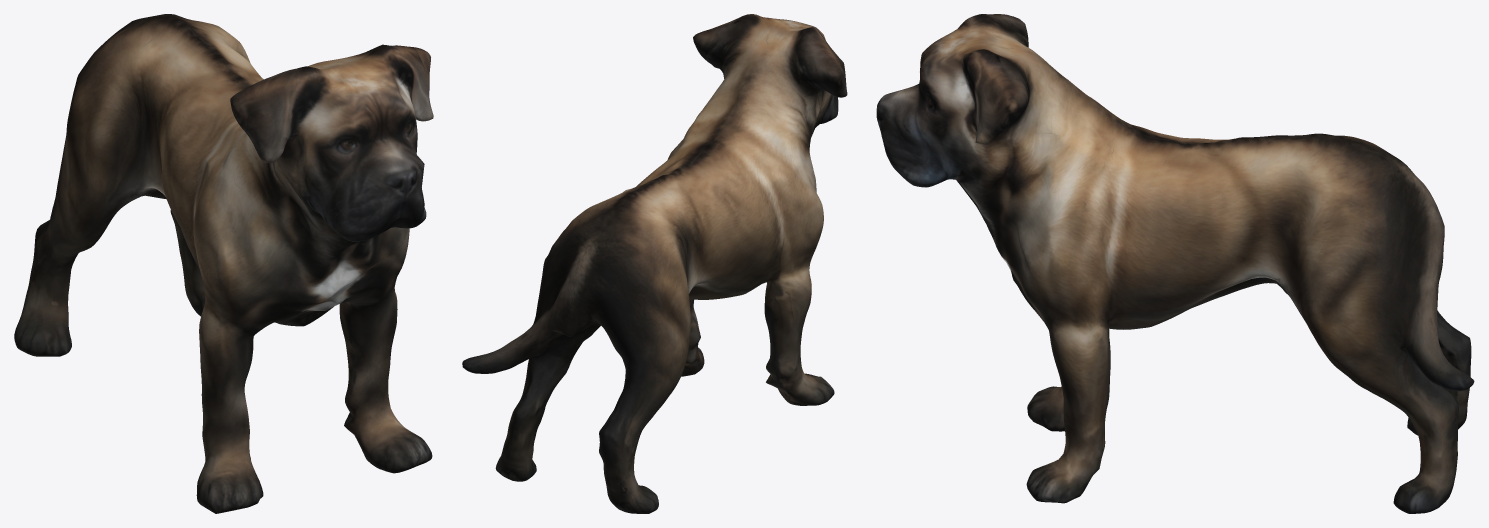
3 views of the same model, side by side, from view 1: azimuth 30°, elevation 25°; view 2: azimuth 150°, elevation 25°; view 3: azimuth 270°, elevation 25° (orthographic). The views are drawn at different scales.
Parts seen in each view (by area): view 1: Mesh_0_Material_0_0; view 2: Mesh_0_Material_0_0; view 3: Mesh_0_Material_0_0.
Part boxes in pixels (left/top/right/bottom): Mesh_0_Material_0_0: left=14, top=14, right=433, bottom=513; Mesh_0_Material_0_0: left=462, top=14, right=847, bottom=513; Mesh_0_Material_0_0: left=876, top=14, right=1474, bottom=513.
Size of the model in its own units: 0.6013 by 0.9813 by 1.26.
Materials: 1 (1 with a texture image).
